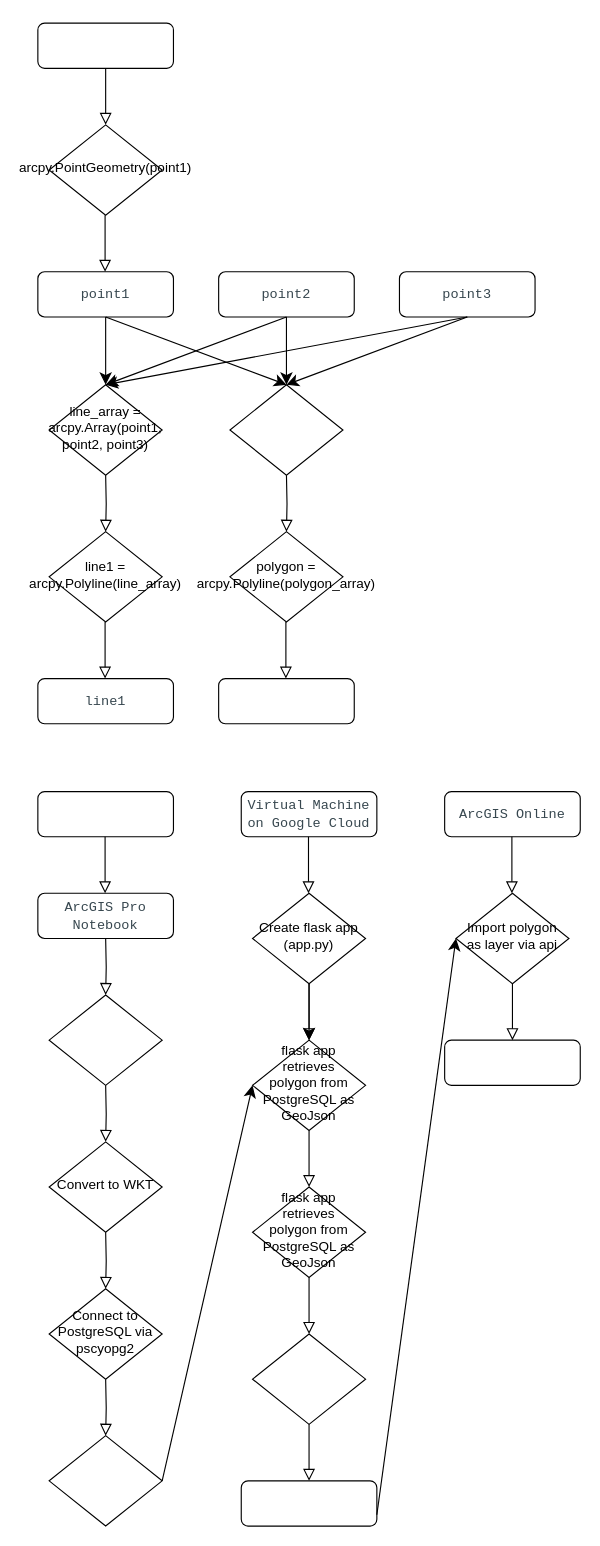
Image size: 600x1546. Some labels were removed from this diagram. Each missing label, with the box of its shape:
Create Polygon: (48, 994, 162, 1085)
GeoJSON at api: (240, 1480, 377, 1526)
Layer in ArcGIS Online from GeoJson: (444, 1039, 580, 1085)
point1 = arcpy.Point( 1 , 2 ): (37, 22, 173, 68)
polygon: (218, 677, 354, 724)
polygon_array = arcpy.Array(point1, point2, point3): (229, 384, 343, 475)
PostgreSQL Databsase: (37, 790, 173, 837)
Posts GeoJSON to virtual machine's api: (251, 1333, 366, 1424)
Upload WKT to PostgreSQL: (48, 1435, 162, 1526)
